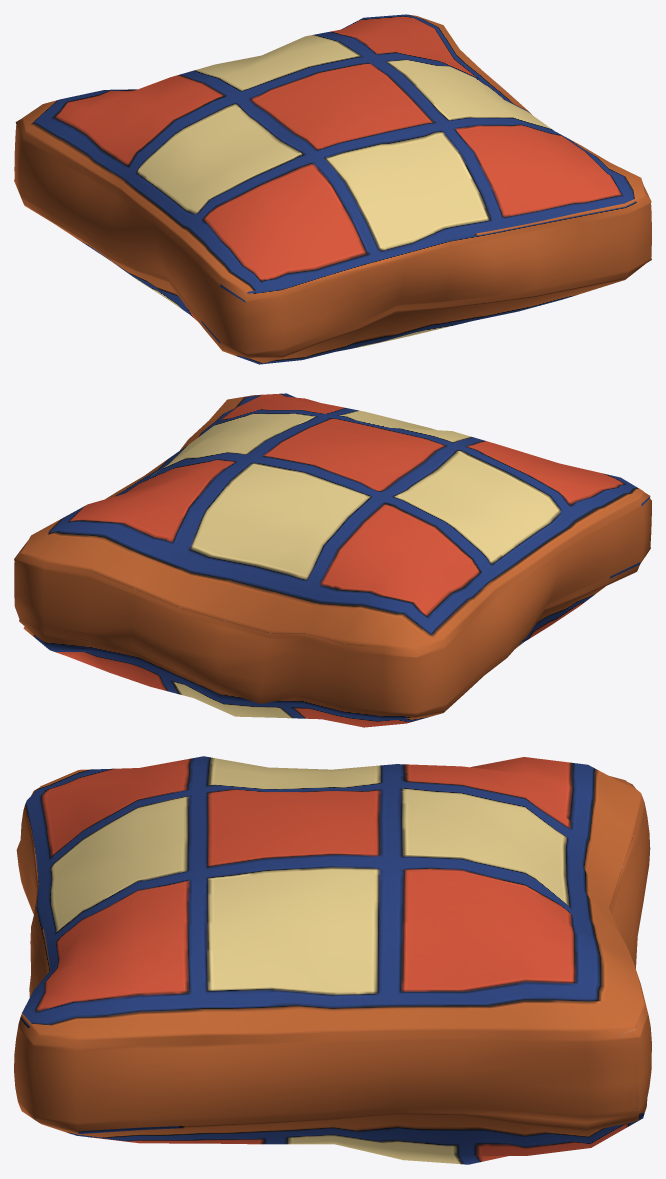
File: pillow5.fbx
3 views of the same model, one above another, from view 1: azimuth 30°, elevation 25°; view 2: azimuth 150°, elevation 25°; view 3: azimuth 270°, elevation 25° (orthographic). The views are drawn at different scales.
Parts seen in each view (by area): view 1: polySurface4; view 2: polySurface4; view 3: polySurface4.
Boxes of the visible parts, <box> form: polySurface4: <box>14,14,651,364</box>; polySurface4: <box>14,393,651,727</box>; polySurface4: <box>14,756,651,1164</box>.
Size of the model in its own units: 14.47 by 7.02 by 14.56.
